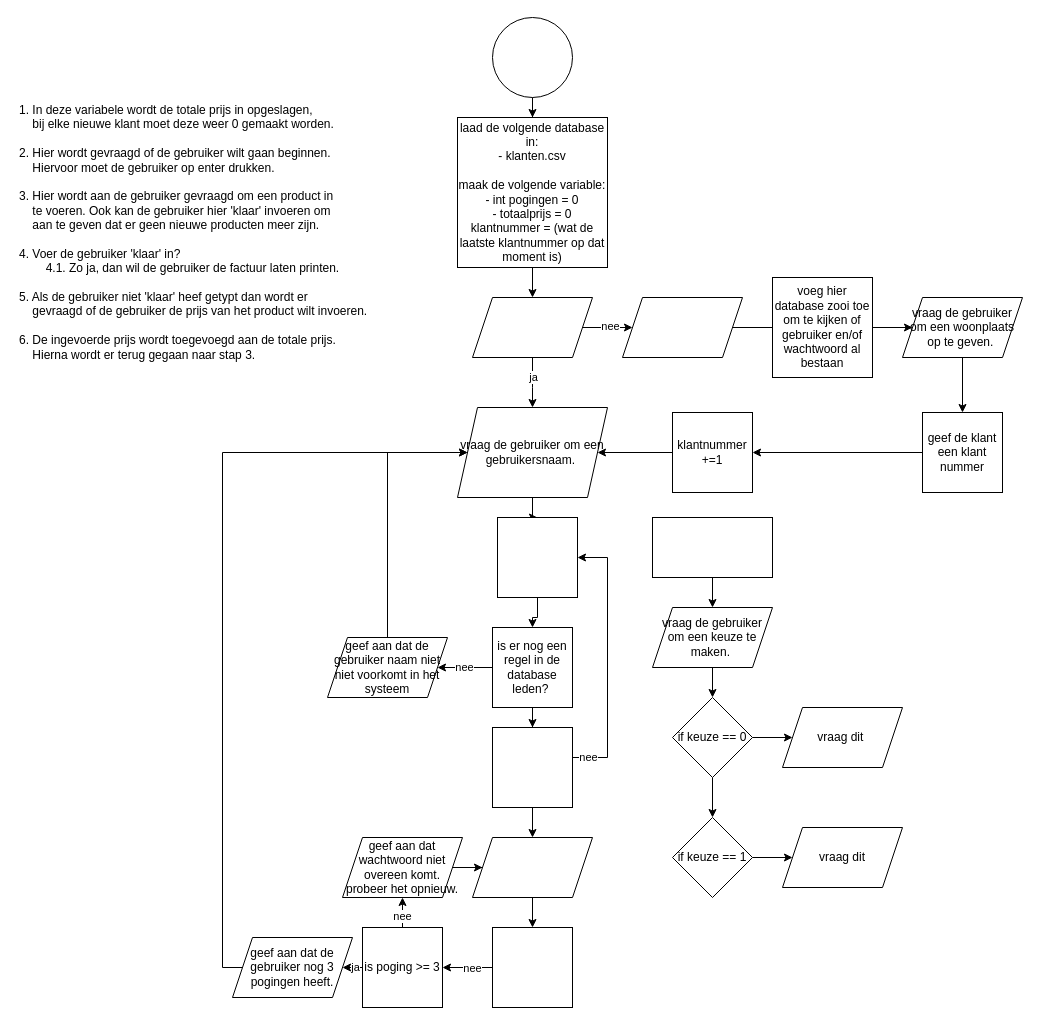
Image size: 1040x1028. Some labels were removed from this diagram. Here are the shapes that lost their labels. From the top down, the box of each, then its label:
(492, 16, 572, 98): Start
(472, 296, 592, 358): vraag de gebruiker of diegene al klant is bij XYZ Solutions
(622, 296, 742, 358): vraag de klant om een gebruikers naam en wachtwoord in te voeren.
(496, 516, 578, 598): ga naar de eerste regel van database leden
(652, 516, 772, 578): toon het keuze menu.
(492, 726, 572, 808): komt gebruikernaam overeen met de naam in database klanten?
(472, 836, 592, 898): vraag de gebruiker om een wachtwoord.
(492, 926, 572, 1008): komt het wachtwoord overeen met het wachtwoord in leden?
